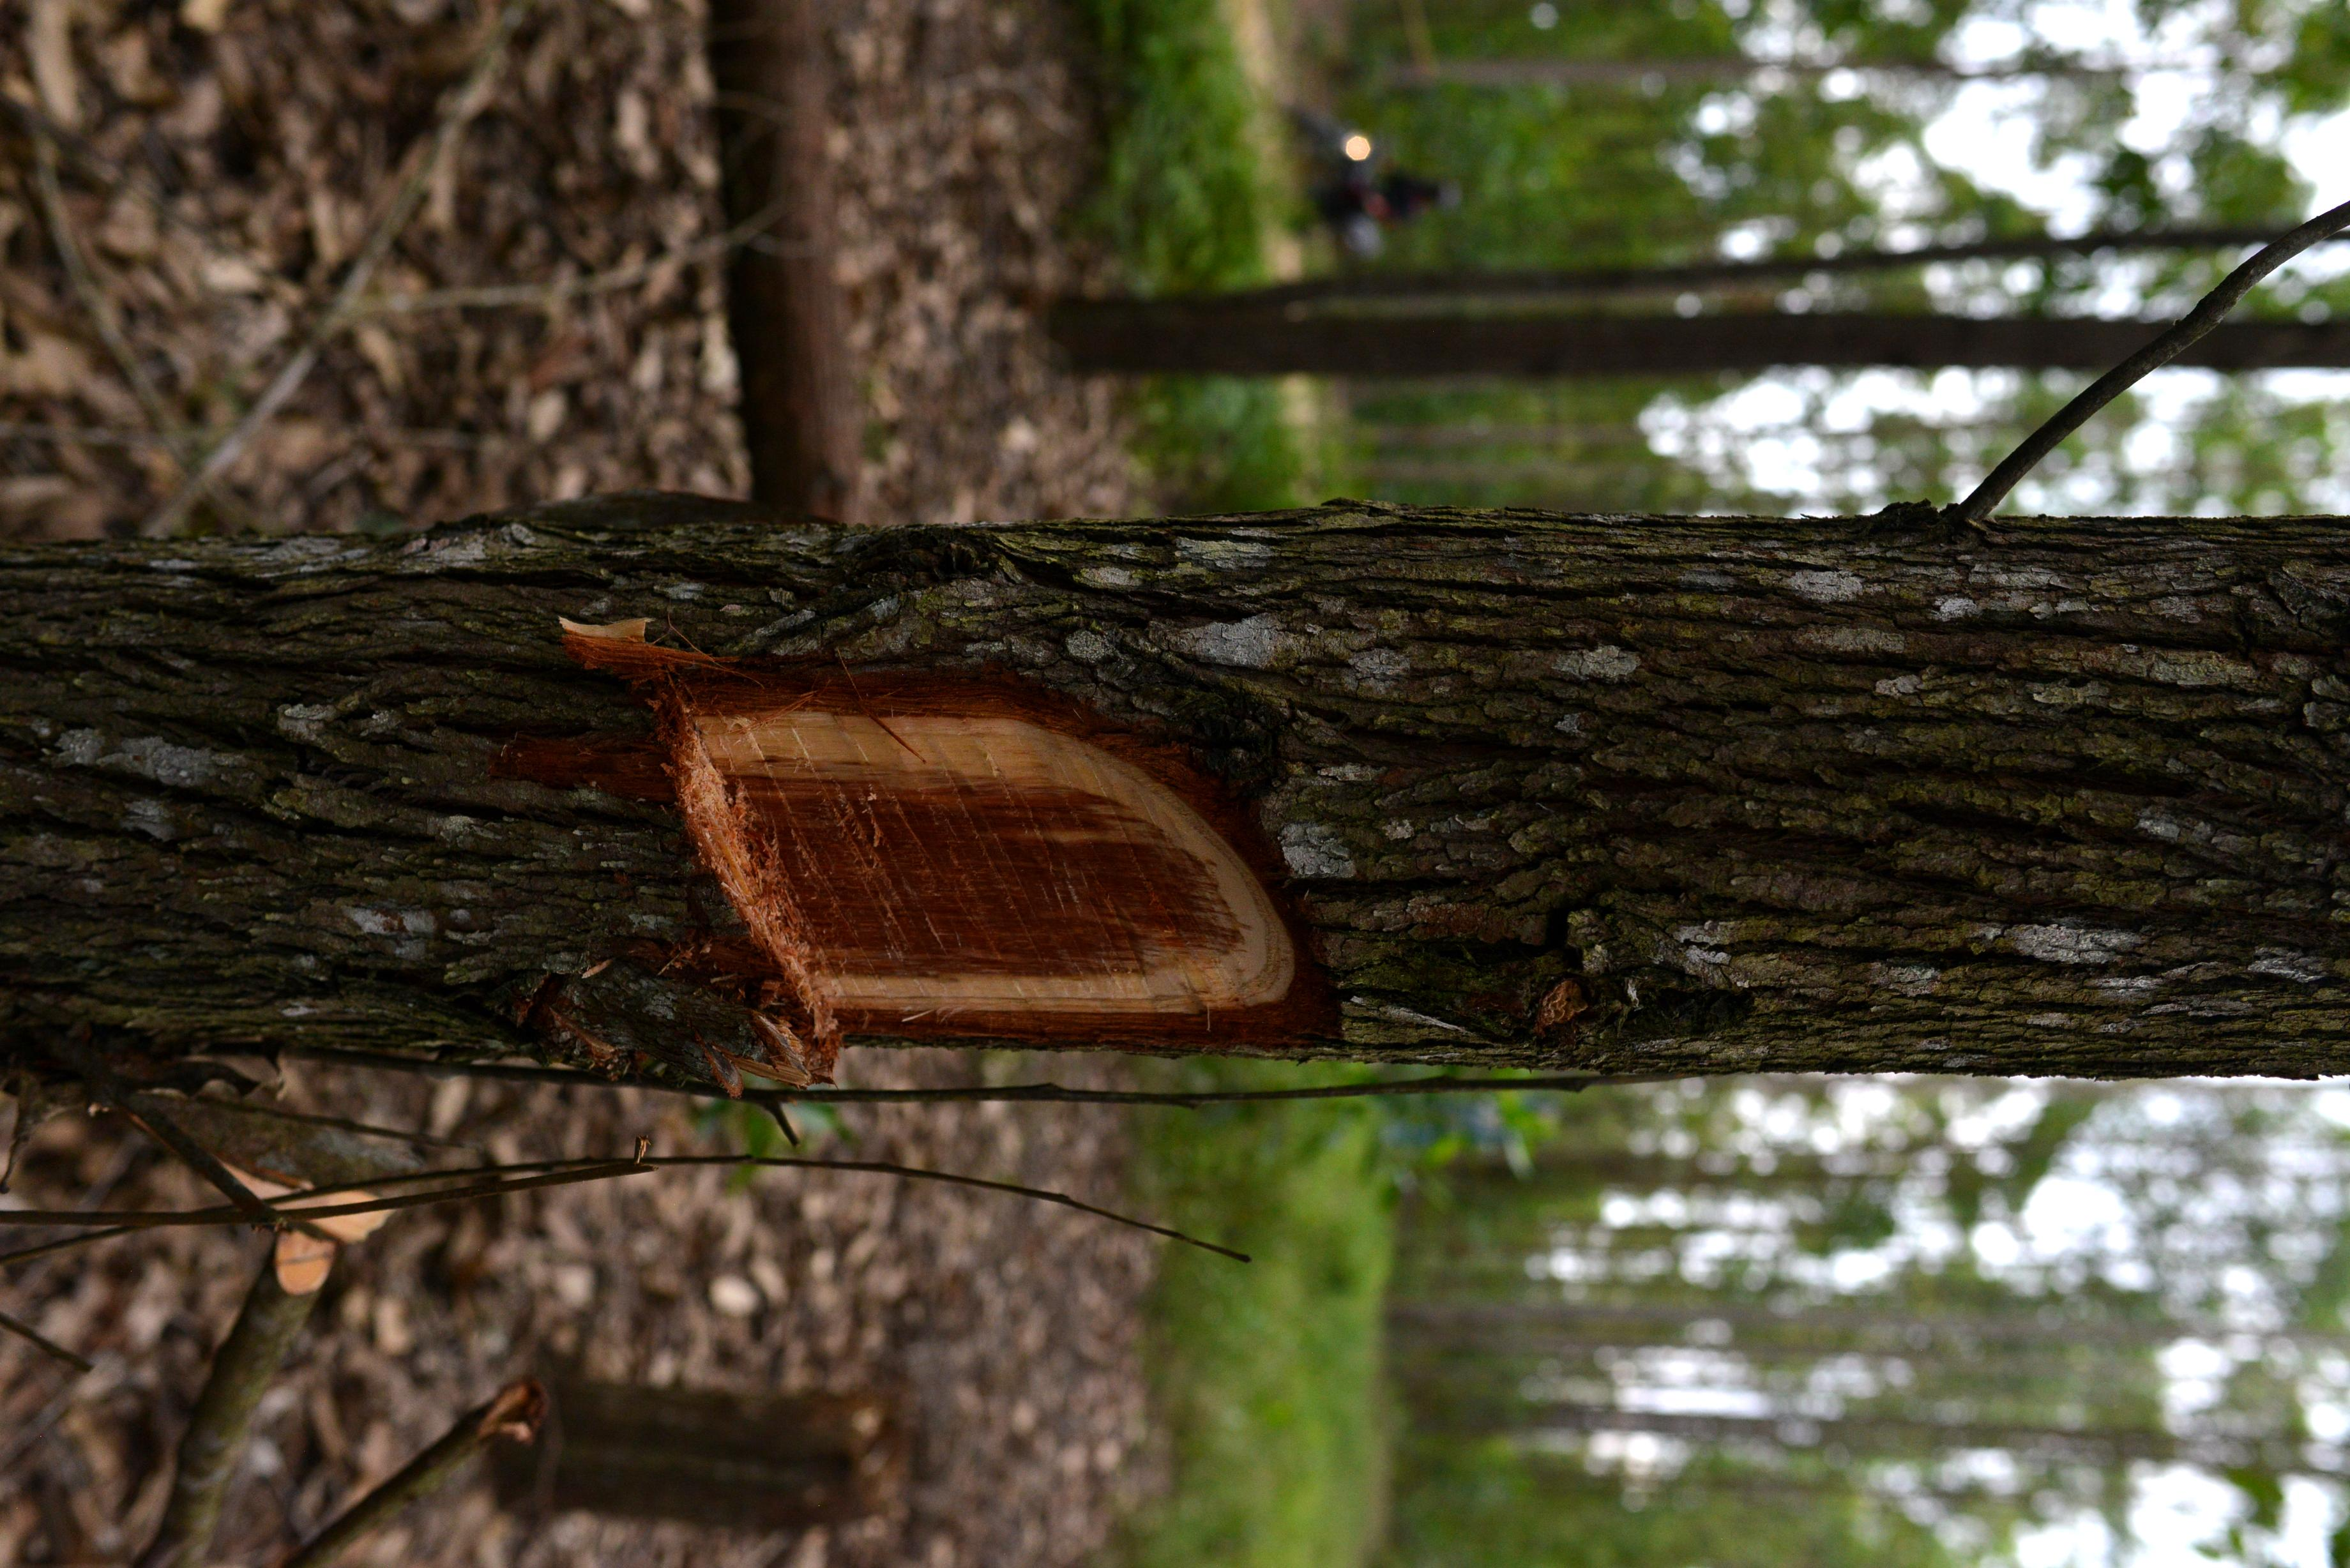Ceratocystis - Inner: (639, 674, 1325, 1095)
